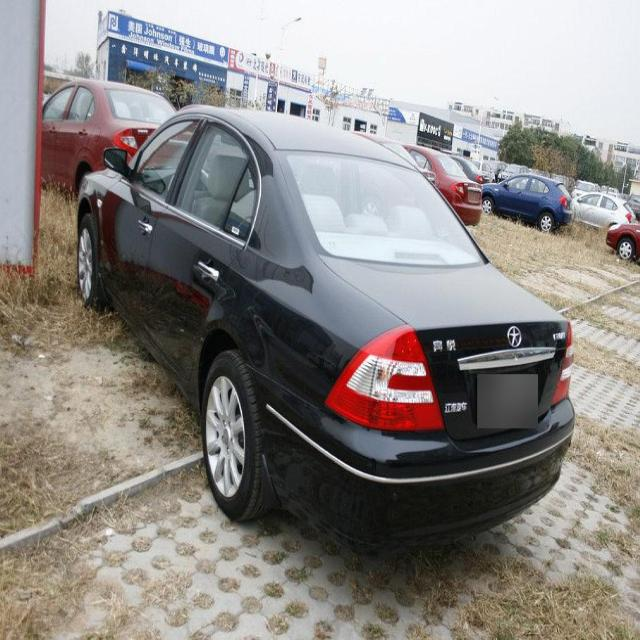back_glass: (280, 148, 481, 269)
back_left_side_light: (323, 320, 448, 438)
back_right_side_light: (548, 318, 576, 413)
door: (145, 152, 265, 361)
front_left_side_door: (98, 107, 204, 360)
front_left_side_mirror: (100, 143, 131, 179)
rear_bumper: (258, 392, 574, 553)
wheel: (200, 348, 276, 522), (76, 210, 106, 312)
